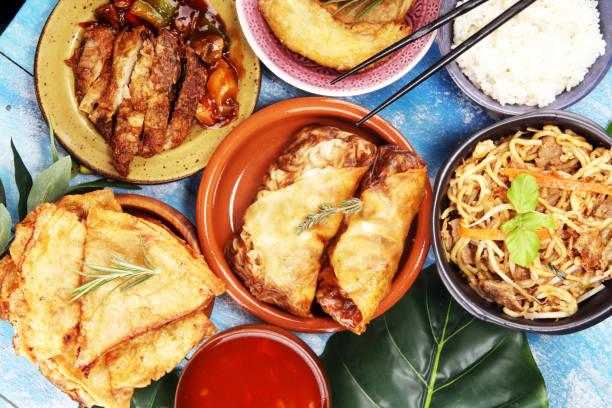Braised Crucian Carp: (197, 96, 427, 330), (6, 195, 216, 401), (33, 2, 249, 185), (430, 112, 608, 333), (440, 1, 611, 117)
